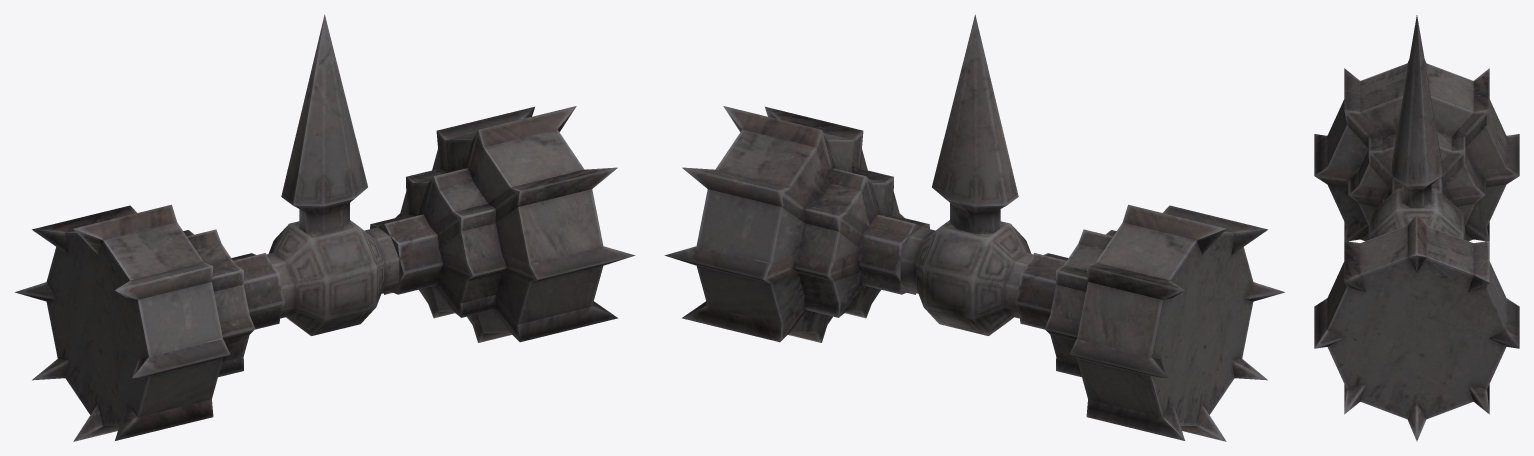
File: sm_dwarf_iron_hammer_blade_e.fbx
3 views of the same model, side by side, from view 1: azimuth 30°, elevation 25°; view 2: azimuth 150°, elevation 25°; view 3: azimuth 270°, elevation 25° (orthographic). The views are drawn at different scales.
Visible parts, largest first — view 1: sm_dwarf_iron_hammer_blade_e; view 2: sm_dwarf_iron_hammer_blade_e; view 3: sm_dwarf_iron_hammer_blade_e.
Part boxes in pixels (left/top/right/bottom): sm_dwarf_iron_hammer_blade_e: left=15, top=14, right=635, bottom=441; sm_dwarf_iron_hammer_blade_e: left=664, top=14, right=1284, bottom=441; sm_dwarf_iron_hammer_blade_e: left=1314, top=15, right=1519, bottom=441.
Bounding box in the file's own units: 0.51 × 0.2063 × 0.3546.
1 material, 1 textured.
